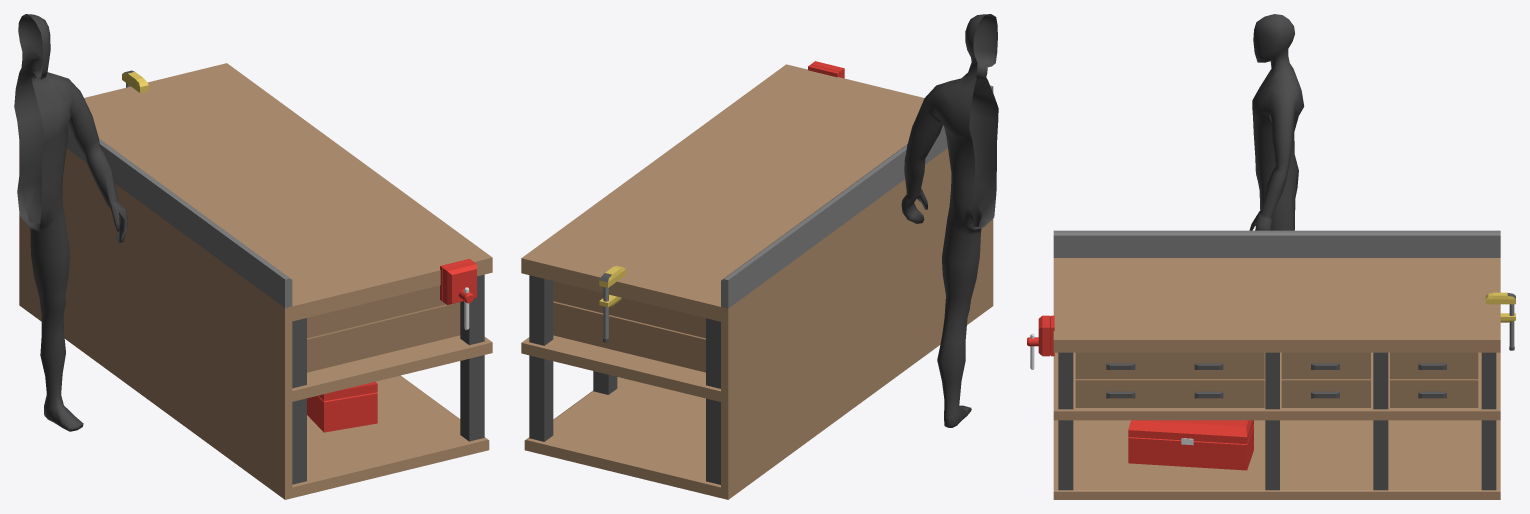
The model's file is Workbench.fbx.
The picture shows the model from 3 angles, left to right: view 1: azimuth 30°, elevation 25°; view 2: azimuth 150°, elevation 25°; view 3: azimuth 270°, elevation 25°; orthographic projection. The views are drawn at different scales.
Visible parts, largest first — view 1: Workbench, Body; view 2: Workbench, Body; view 3: Workbench, Body.
Boxes of the visible parts, <box> form: Workbench: <box>19,63,492,499</box>; Body: <box>14,14,127,431</box>; Workbench: <box>521,61,993,499</box>; Body: <box>901,14,998,427</box>; Workbench: <box>1027,230,1515,499</box>; Body: <box>1249,14,1304,230</box>.
Size of the model in its own units: 153 by 183 by 231.
